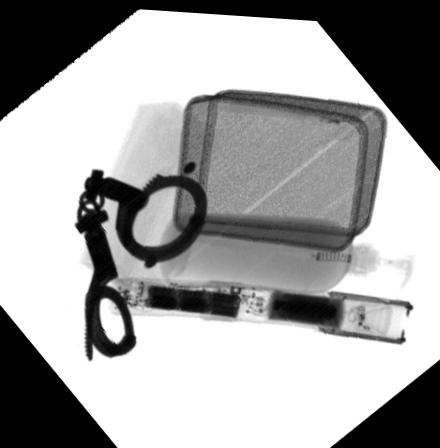Baton: (106, 274, 414, 340)
HandCuffs: (71, 166, 208, 361)
